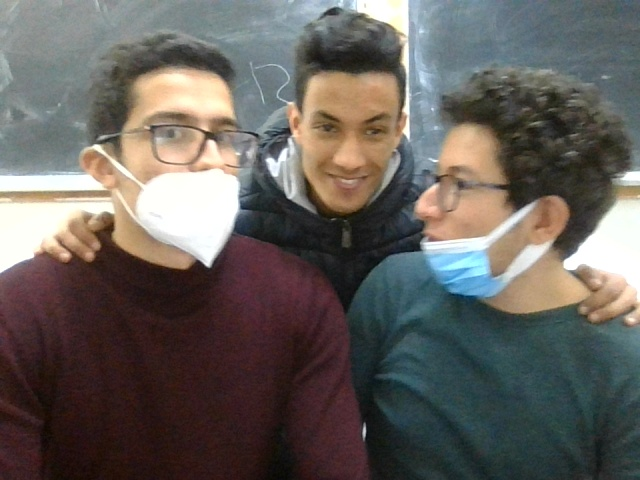mask_weared_incorrect: (408, 85, 595, 302), (90, 38, 257, 274)
without_mask: (287, 9, 419, 214)
